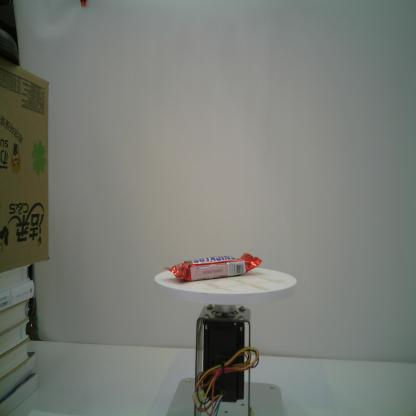Chocolate: (162, 252, 263, 282)
